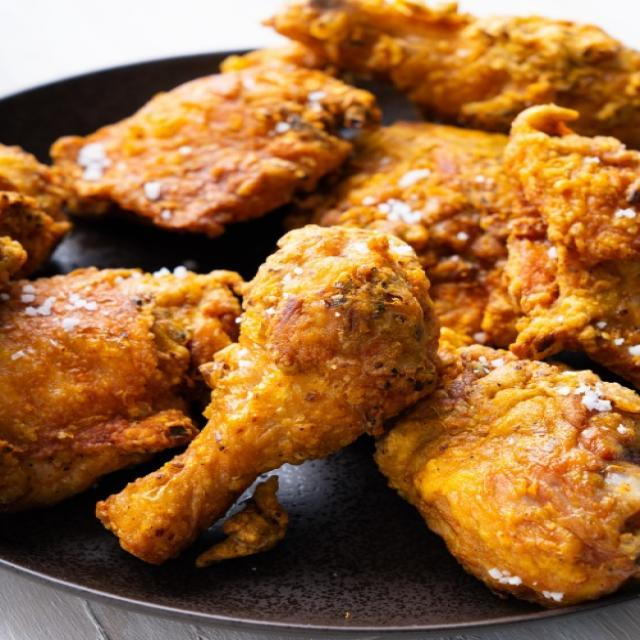ayam_goreng: (20, 0, 624, 589)
